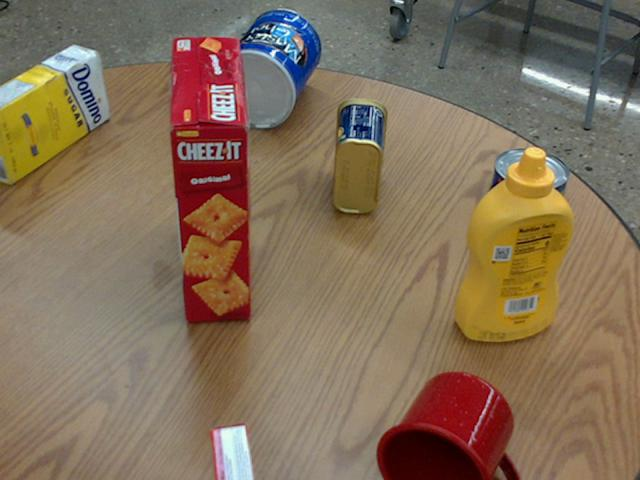cracker_box: (172, 38, 254, 321)
gelatin_box: (207, 425, 250, 479)
master_chef_can: (213, 9, 320, 128)
mug: (375, 372, 517, 479)
mustard_bottle: (453, 147, 573, 340)
potted_meat_can: (333, 98, 386, 212)
sugar_box: (0, 44, 107, 183)
tuna_fish_can: (490, 147, 567, 212)
